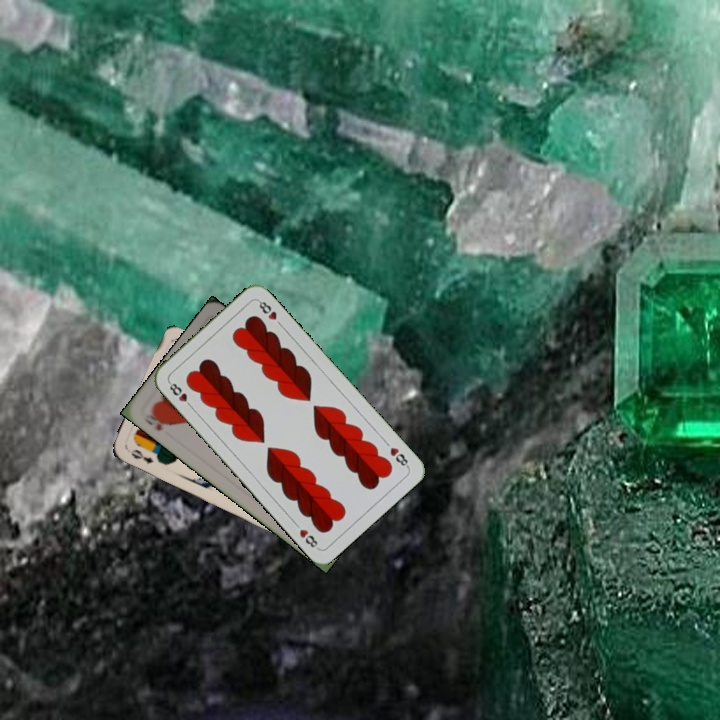EO: (123, 444, 156, 466)
H8: (165, 378, 196, 411), (386, 443, 412, 470)
HO: (139, 407, 173, 434)
